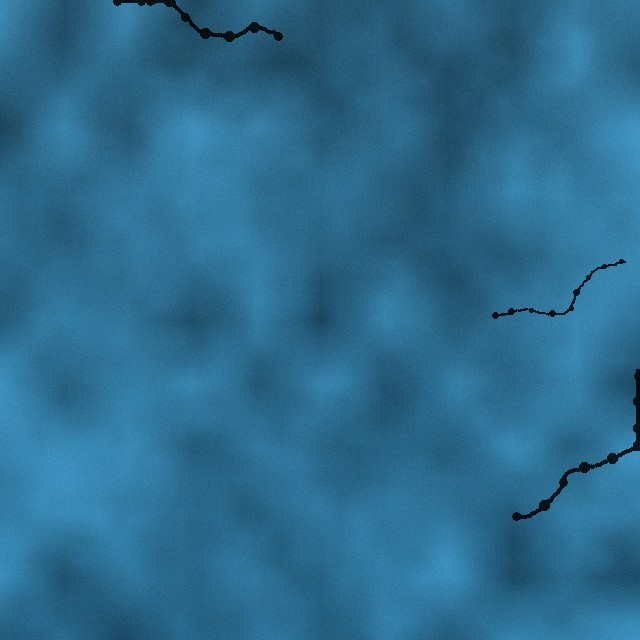crack: (510, 363, 639, 522), (491, 257, 629, 319), (108, 0, 284, 42)
